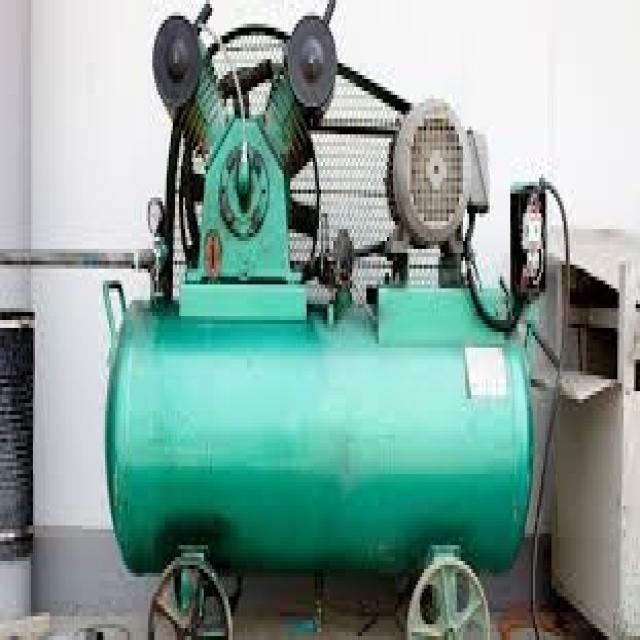compressor: (67, 16, 599, 593)
